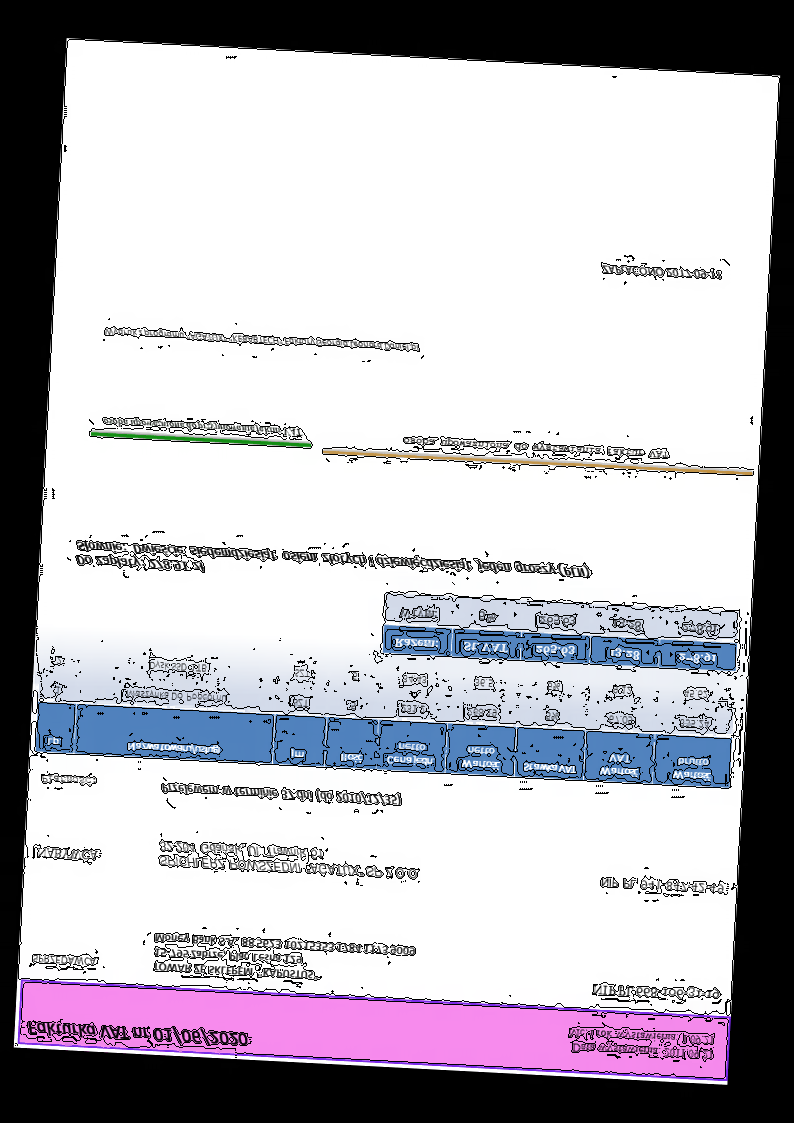Table: (34, 637, 737, 790), (381, 592, 741, 674)
TextBox: (73, 535, 593, 596), (149, 930, 416, 986), (156, 838, 424, 883), (103, 324, 421, 355), (401, 434, 671, 462), (159, 778, 402, 808), (25, 1017, 250, 1049), (563, 1024, 716, 1064), (101, 414, 304, 439), (589, 979, 721, 1004), (599, 874, 726, 896), (599, 263, 723, 283), (34, 845, 103, 864), (30, 951, 100, 969), (39, 772, 97, 790)
